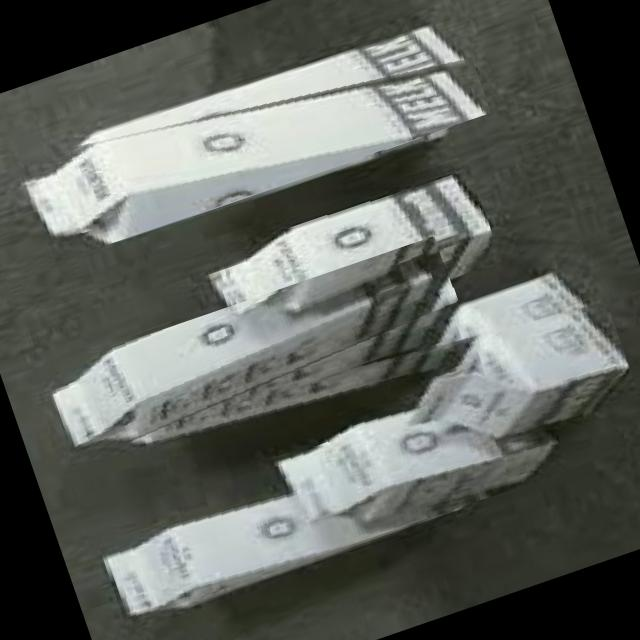PaperCardboard: (69, 262, 640, 619), (13, 7, 490, 263), (44, 233, 468, 462), (204, 150, 502, 349)
